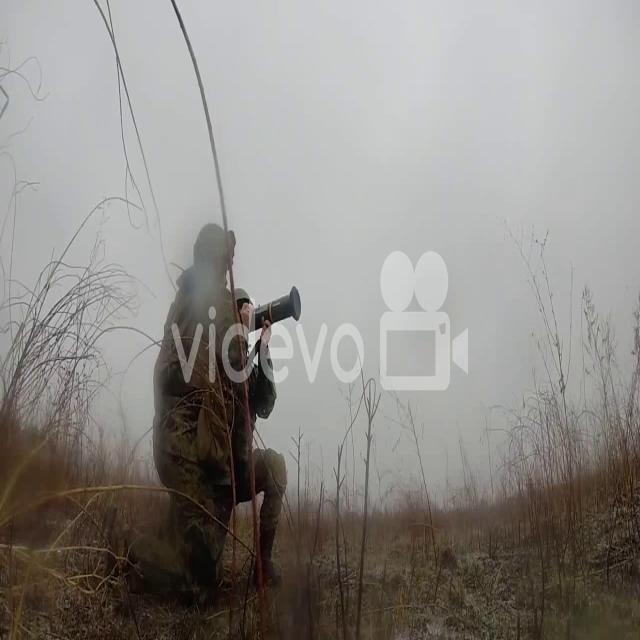bazooka: (252, 283, 304, 335)
